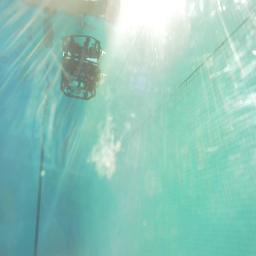Side: (60, 64, 100, 100)
